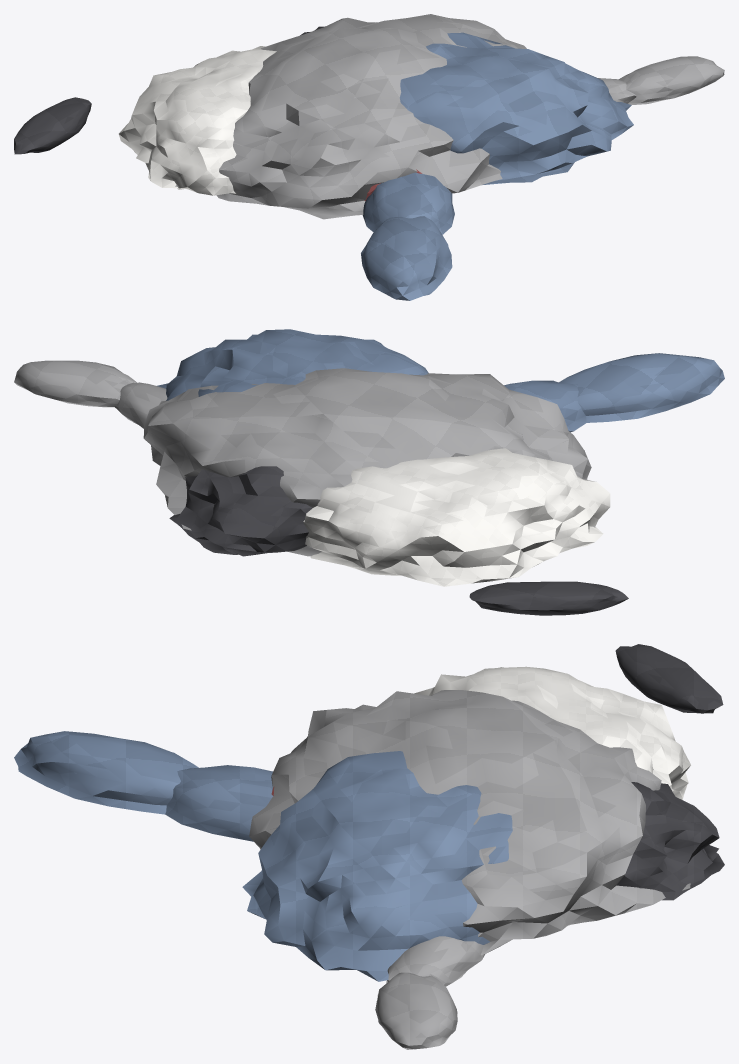
The model's file is clothes_pile.glb.
3 views of the same model, one above another, from view 1: azimuth 30°, elevation 25°; view 2: azimuth 150°, elevation 25°; view 3: azimuth 270°, elevation 25° (orthographic). The views are drawn at different scales.
Visible parts, largest first — view 1: body; view 2: body; view 3: body.
Boxes of the visible parts, x1,y1,x2,y2 form: body: [14, 14, 724, 300]; body: [14, 329, 724, 615]; body: [14, 644, 724, 1049].
Size of the model in its own units: 1.01 by 0.1406 by 0.7826.
Materials: 5 (5 with a texture image).
